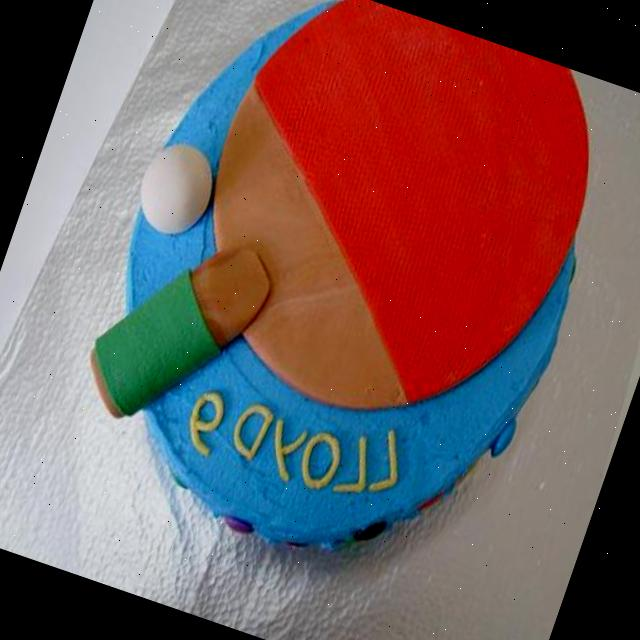ping-pong-ball: (128, 133, 224, 246)
